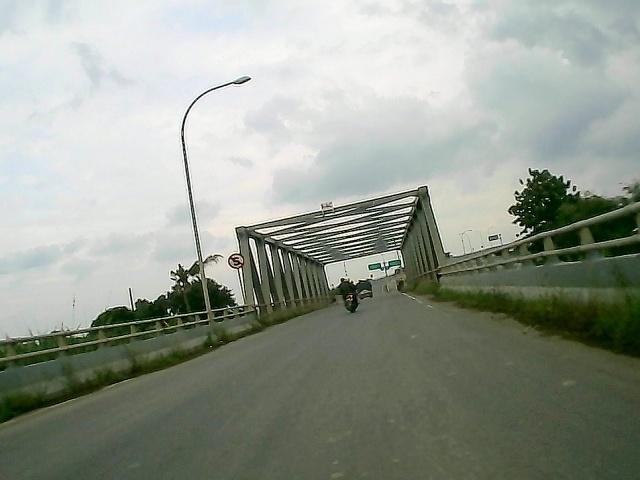Dilarang berhenti: (225, 250, 246, 273)
